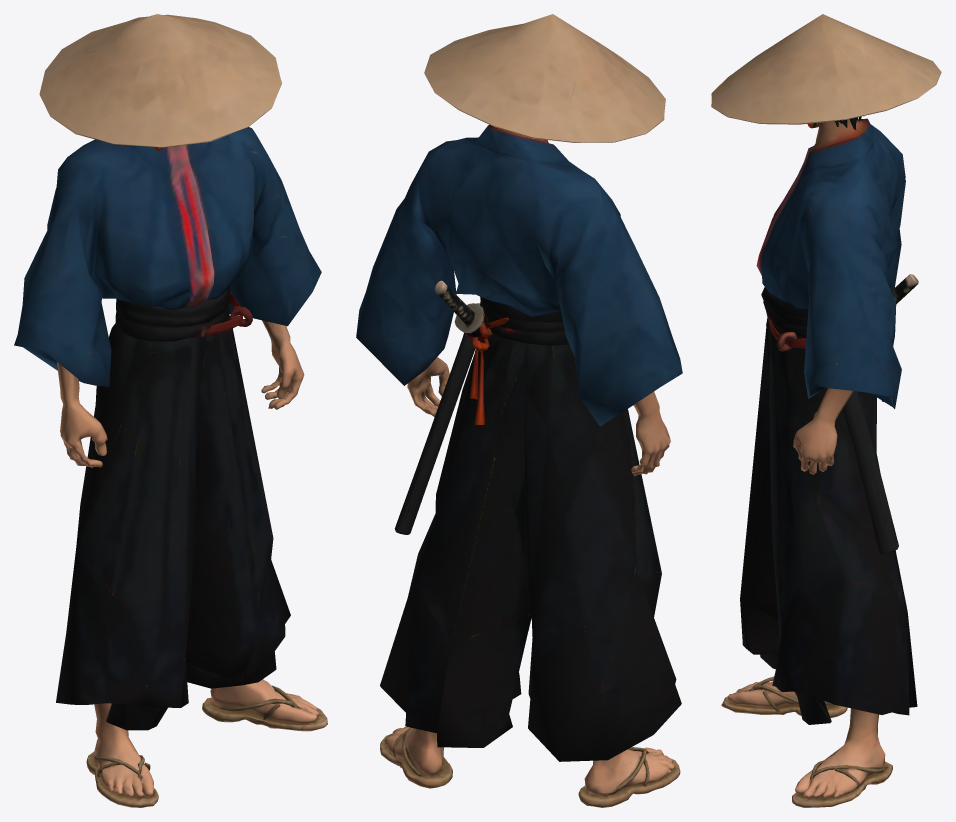
The picture shows the model from 3 angles, left to right: view 1: azimuth 30°, elevation 25°; view 2: azimuth 150°, elevation 25°; view 3: azimuth 270°, elevation 25°; orthographic projection. The views are drawn at different scales.
Parts seen in each view (by area): view 1: geometry_0; view 2: geometry_0; view 3: geometry_0.
Boxes of the visible parts, box(x1,y1,x2,y2) form: geometry_0: box(14, 14, 327, 807); geometry_0: box(356, 14, 682, 807); geometry_0: box(711, 14, 941, 807).
Bounding box in the file's own units: 0.7698 × 1.8 × 0.5206.
1 material, 1 textured.
